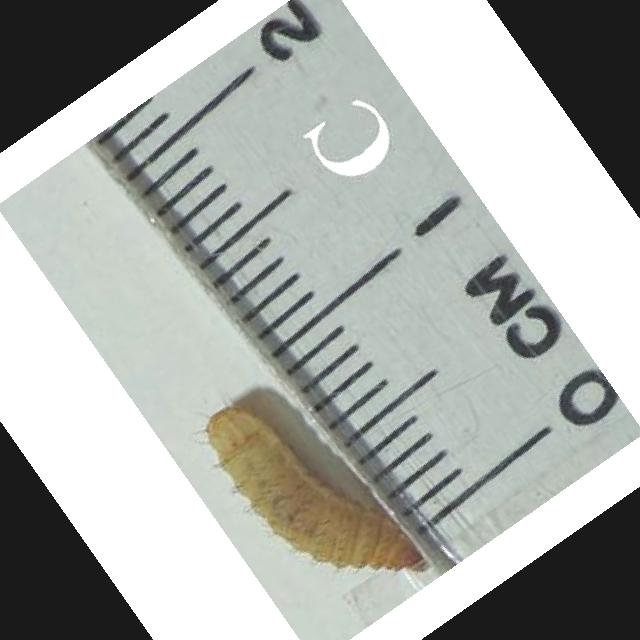Maggot: (206, 404, 426, 581)
